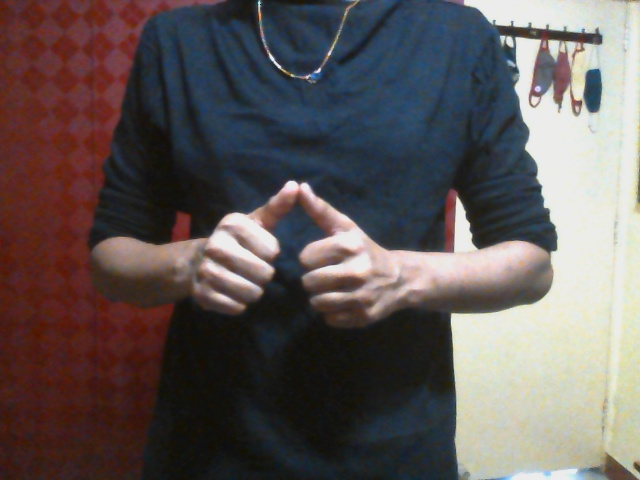A: (189, 178, 417, 329)
